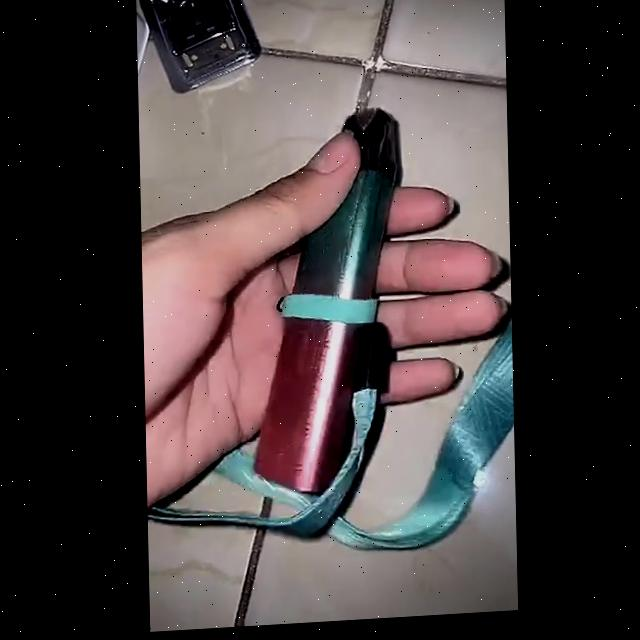vape: (243, 112, 408, 502)
